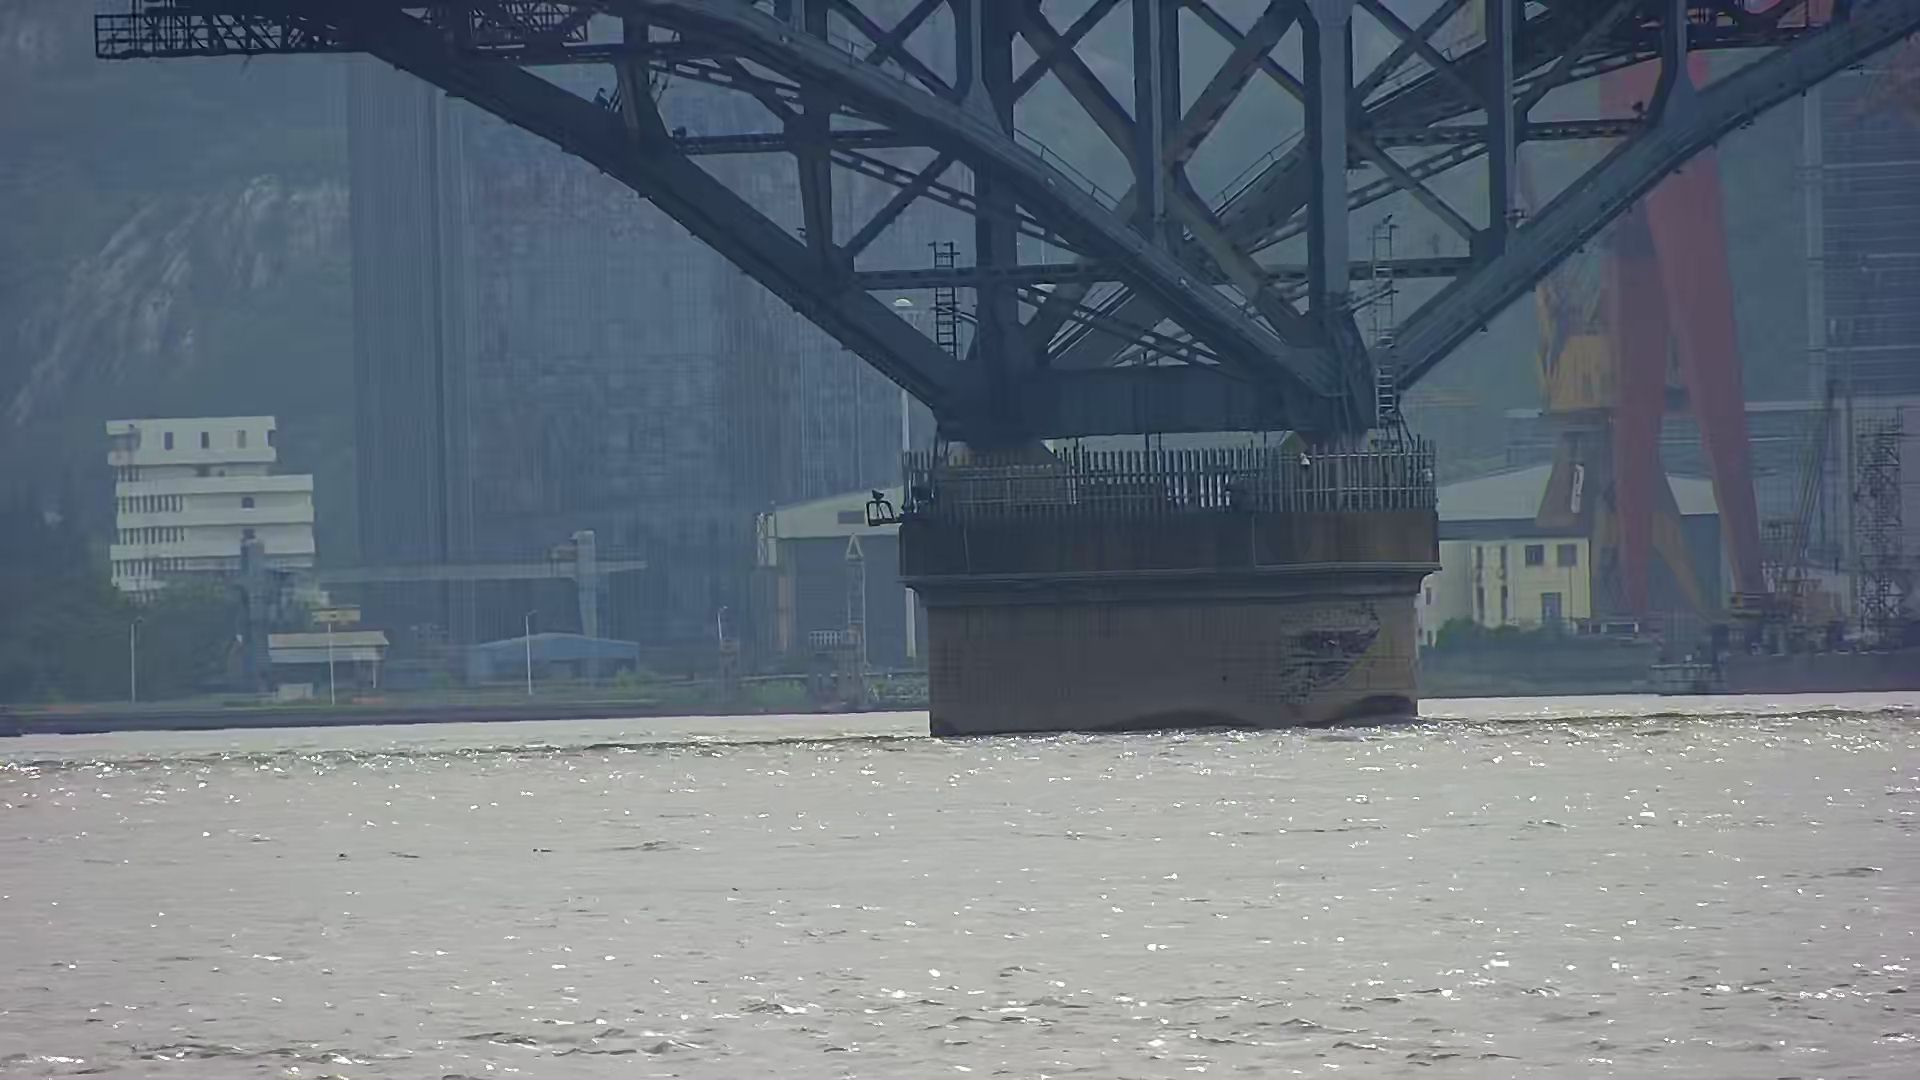bridge: (95, 3, 1920, 738)
